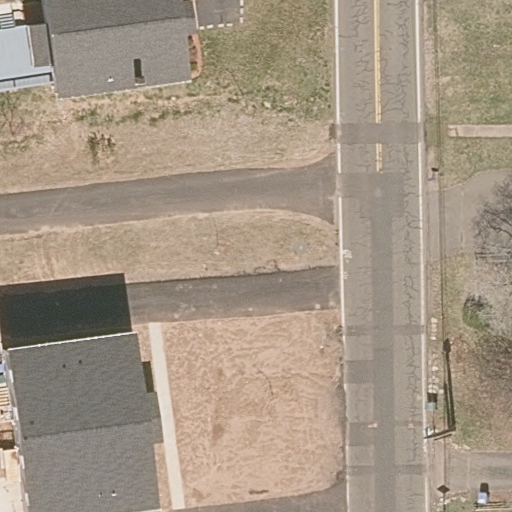DT: (422, 424, 457, 443)
